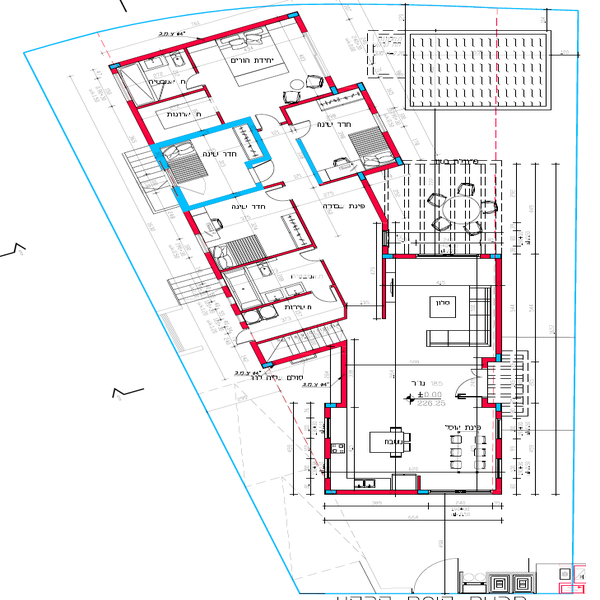door: (457, 368, 482, 400), (253, 106, 280, 133), (251, 160, 281, 184), (309, 283, 339, 307), (291, 118, 320, 140), (266, 185, 293, 204), (184, 70, 206, 92), (301, 247, 326, 265), (235, 331, 255, 350)
room: (326, 402, 506, 504), (377, 252, 504, 364), (278, 80, 416, 182)
wall: (496, 254, 505, 361), (318, 488, 421, 497), (340, 343, 348, 409), (383, 256, 389, 314)
window: (321, 416, 338, 439), (321, 456, 331, 476)
